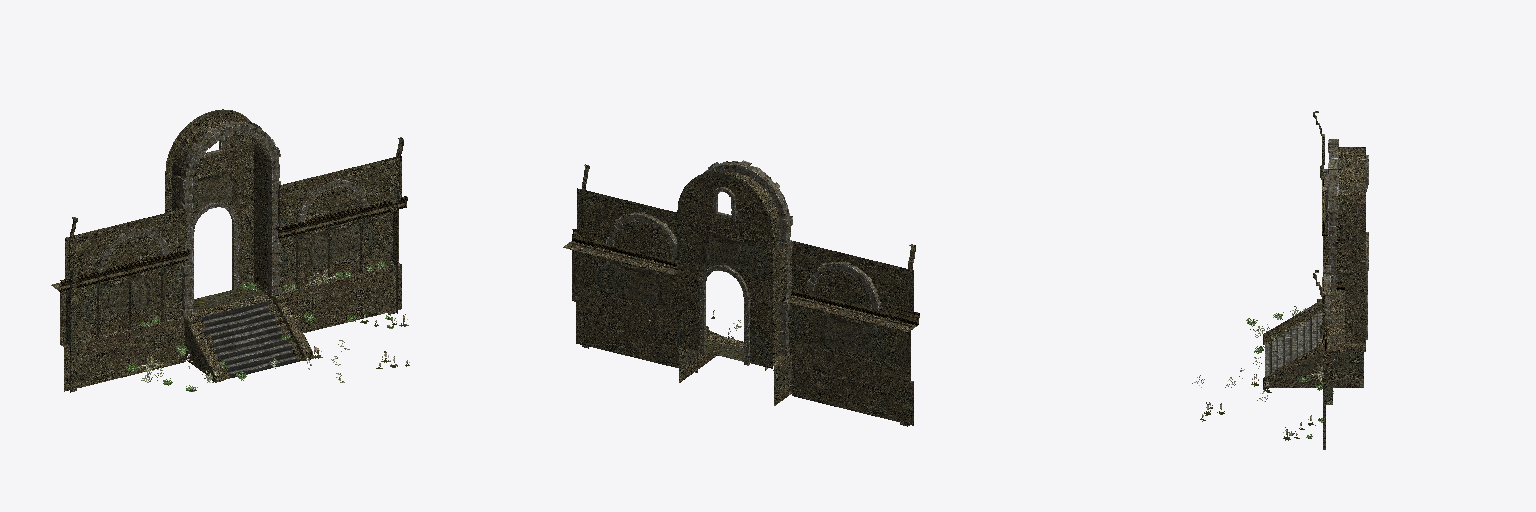
The picture shows the model from 3 angles: view 1: azimuth 30°, elevation 25°; view 2: azimuth 150°, elevation 25°; view 3: azimuth 270°, elevation 25°; orthographic projection.
Visible parts, largest first — view 1: mesh10, mesh6, mesh8, mesh5, mesh11, mesh1, mesh9; view 2: mesh10, mesh6, mesh11, mesh8; view 3: mesh10, mesh6, mesh5, mesh8.
Part boxes in pixels (x1,y1,x2,y2): mesh10: (51,109,401,391); mesh6: (98,121,369,316); mesh8: (66,137,403,392); mesh5: (202,301,303,377); mesh11: (59,196,407,291); mesh1: (126,261,393,391); mesh9: (192,285,264,311); mesh10: (563,172,916,425); mesh6: (606,160,881,365); mesh11: (571,229,919,325); mesh8: (582,164,915,426); mesh10: (1263,147,1365,404); mesh6: (1323,139,1368,339); mesh5: (1265,314,1321,375); mesh8: (1265,111,1332,449).
Size of the model in its own units: 20.11 by 12.63 by 9.02.
Materials: 12 (10 with a texture image).